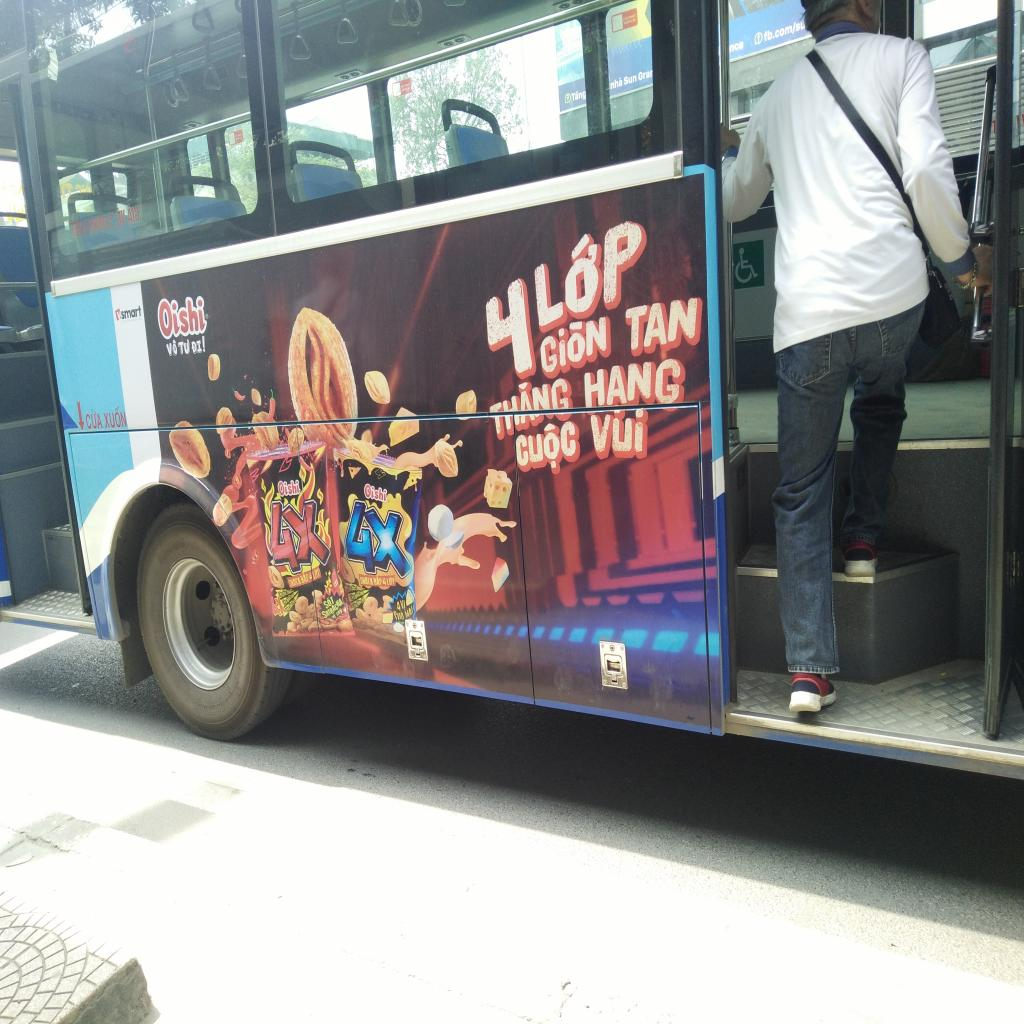text: (528, 210, 650, 334), (582, 354, 685, 418), (481, 273, 537, 387), (342, 496, 415, 581), (262, 496, 334, 580), (536, 309, 613, 380), (622, 292, 702, 356), (514, 414, 582, 482), (482, 376, 576, 415), (153, 292, 210, 340), (763, 19, 807, 43), (102, 403, 128, 430), (87, 209, 114, 234), (364, 482, 389, 504), (320, 598, 344, 620), (83, 406, 104, 430), (277, 478, 302, 498), (114, 304, 142, 321), (268, 595, 287, 620), (68, 218, 88, 241), (126, 200, 142, 226), (190, 334, 206, 356), (113, 203, 126, 230), (176, 337, 192, 357), (164, 338, 179, 358), (286, 574, 302, 590), (571, 88, 587, 103), (638, 68, 654, 83), (60, 182, 74, 199), (322, 593, 336, 610), (609, 75, 623, 91), (729, 40, 744, 54), (623, 73, 638, 86), (298, 570, 310, 585), (359, 576, 374, 586), (404, 604, 414, 619), (311, 567, 322, 580), (392, 610, 405, 621), (373, 576, 383, 587), (85, 217, 91, 234), (387, 576, 395, 587), (332, 579, 340, 589), (400, 598, 406, 611), (400, 82, 411, 89), (308, 570, 314, 582), (336, 608, 344, 617), (348, 593, 356, 602), (353, 591, 361, 600), (396, 600, 402, 612), (624, 18, 632, 26), (281, 598, 288, 607), (285, 595, 292, 604), (351, 601, 358, 610), (356, 598, 363, 607), (346, 584, 353, 592), (277, 590, 284, 598), (756, 33, 761, 44), (401, 86, 410, 92), (331, 612, 337, 621), (628, 13, 636, 19), (282, 589, 288, 597), (285, 605, 291, 613), (288, 602, 294, 610), (351, 585, 357, 592), (356, 584, 362, 591), (359, 590, 365, 597), (291, 598, 297, 605), (361, 596, 366, 604), (382, 576, 386, 586), (622, 15, 628, 21), (286, 589, 292, 595), (290, 593, 296, 599), (631, 17, 636, 23)
